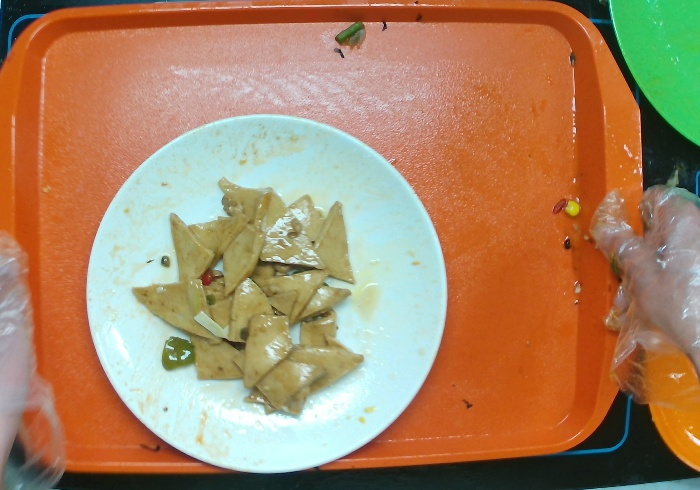HZYJPL-Bai_Se_Yuan_Pan: (82, 104, 456, 485)
